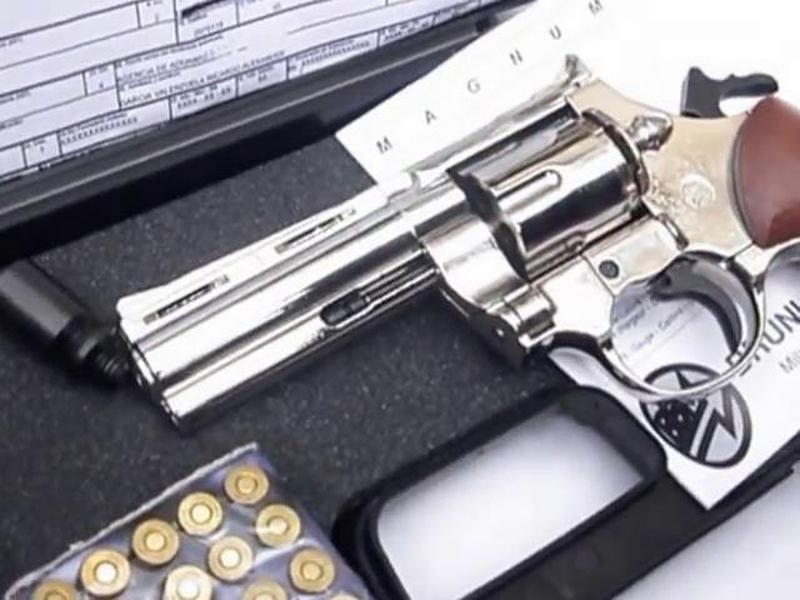Revolver: (84, 30, 800, 458)
